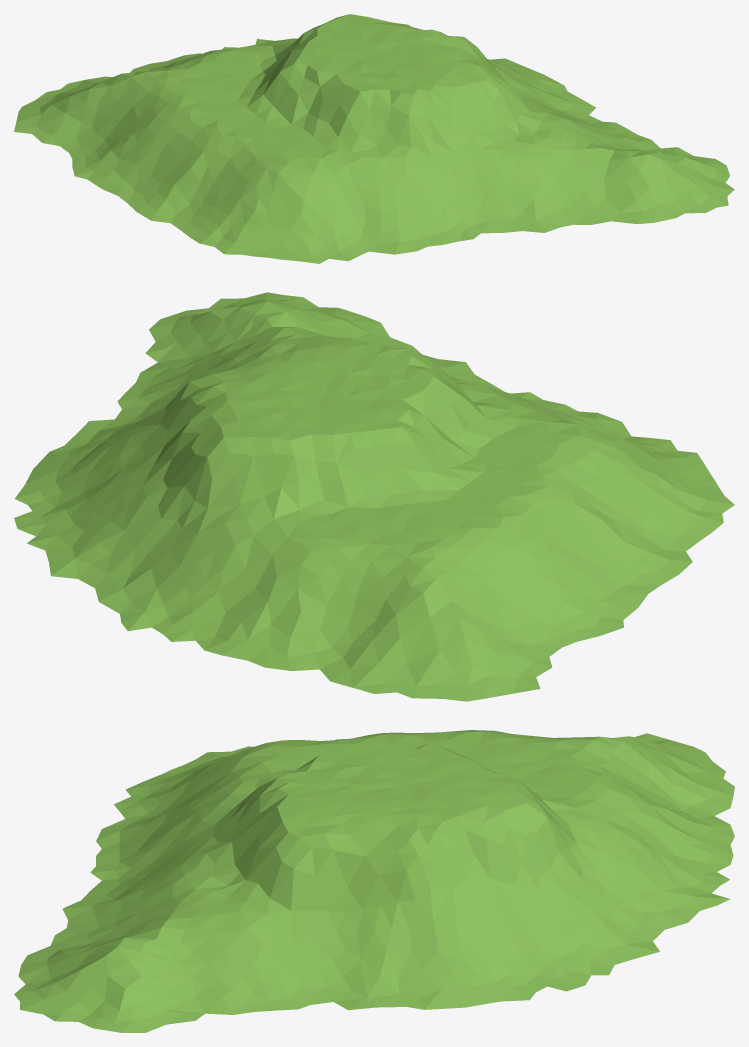
Rendered from MT_Island_L_b_09_LOD.fbx.
3 renders of one model, top to bottom at view 1: azimuth 30°, elevation 25°; view 2: azimuth 150°, elevation 25°; view 3: azimuth 270°, elevation 25°, orthographic. The views are drawn at different scales.
Parts seen in each view (by area): view 1: MT_Island_L_b_09_LOD0; view 2: MT_Island_L_b_09_LOD0; view 3: MT_Island_L_b_09_LOD0.
Boxes of the visible parts, x1=… form: MT_Island_L_b_09_LOD0: x1=14, y1=14, x2=734, y2=263; MT_Island_L_b_09_LOD0: x1=14, y1=292, x2=734, y2=701; MT_Island_L_b_09_LOD0: x1=14, y1=730, x2=734, y2=1032.
Size of what is drawn, in the model's own units: 9495 by 1566 by 9609.
